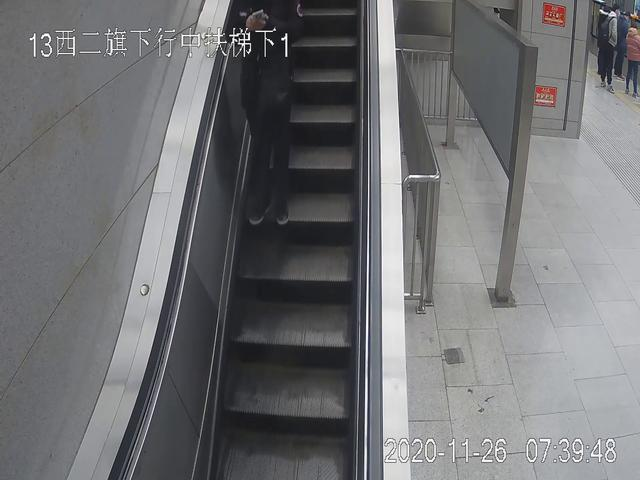person: (226, 1, 303, 228), (597, 5, 619, 94)
